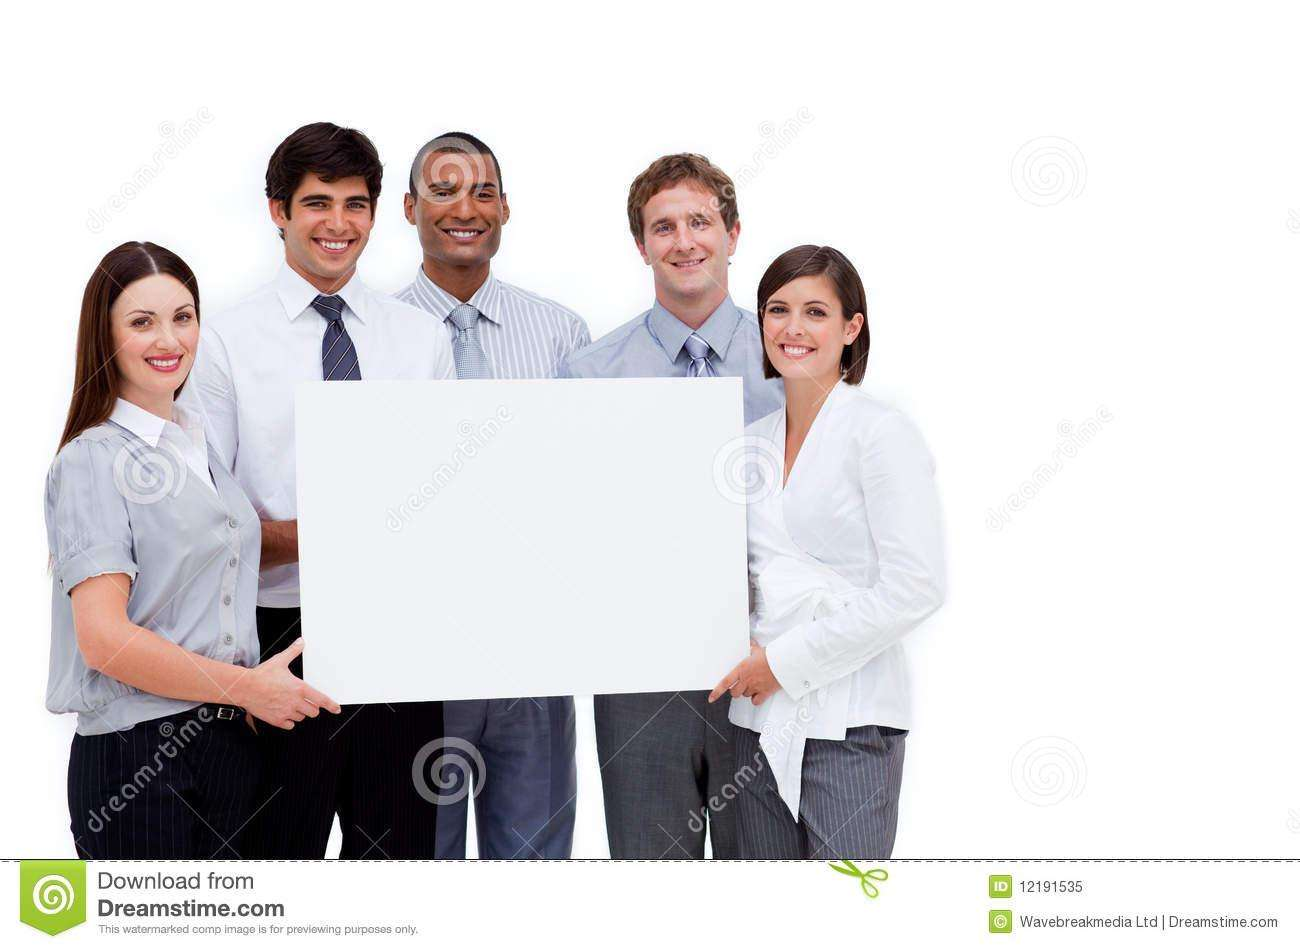Face: (82, 234, 235, 388), (398, 133, 545, 280), (243, 127, 390, 274), (744, 246, 884, 386), (621, 154, 749, 282)
